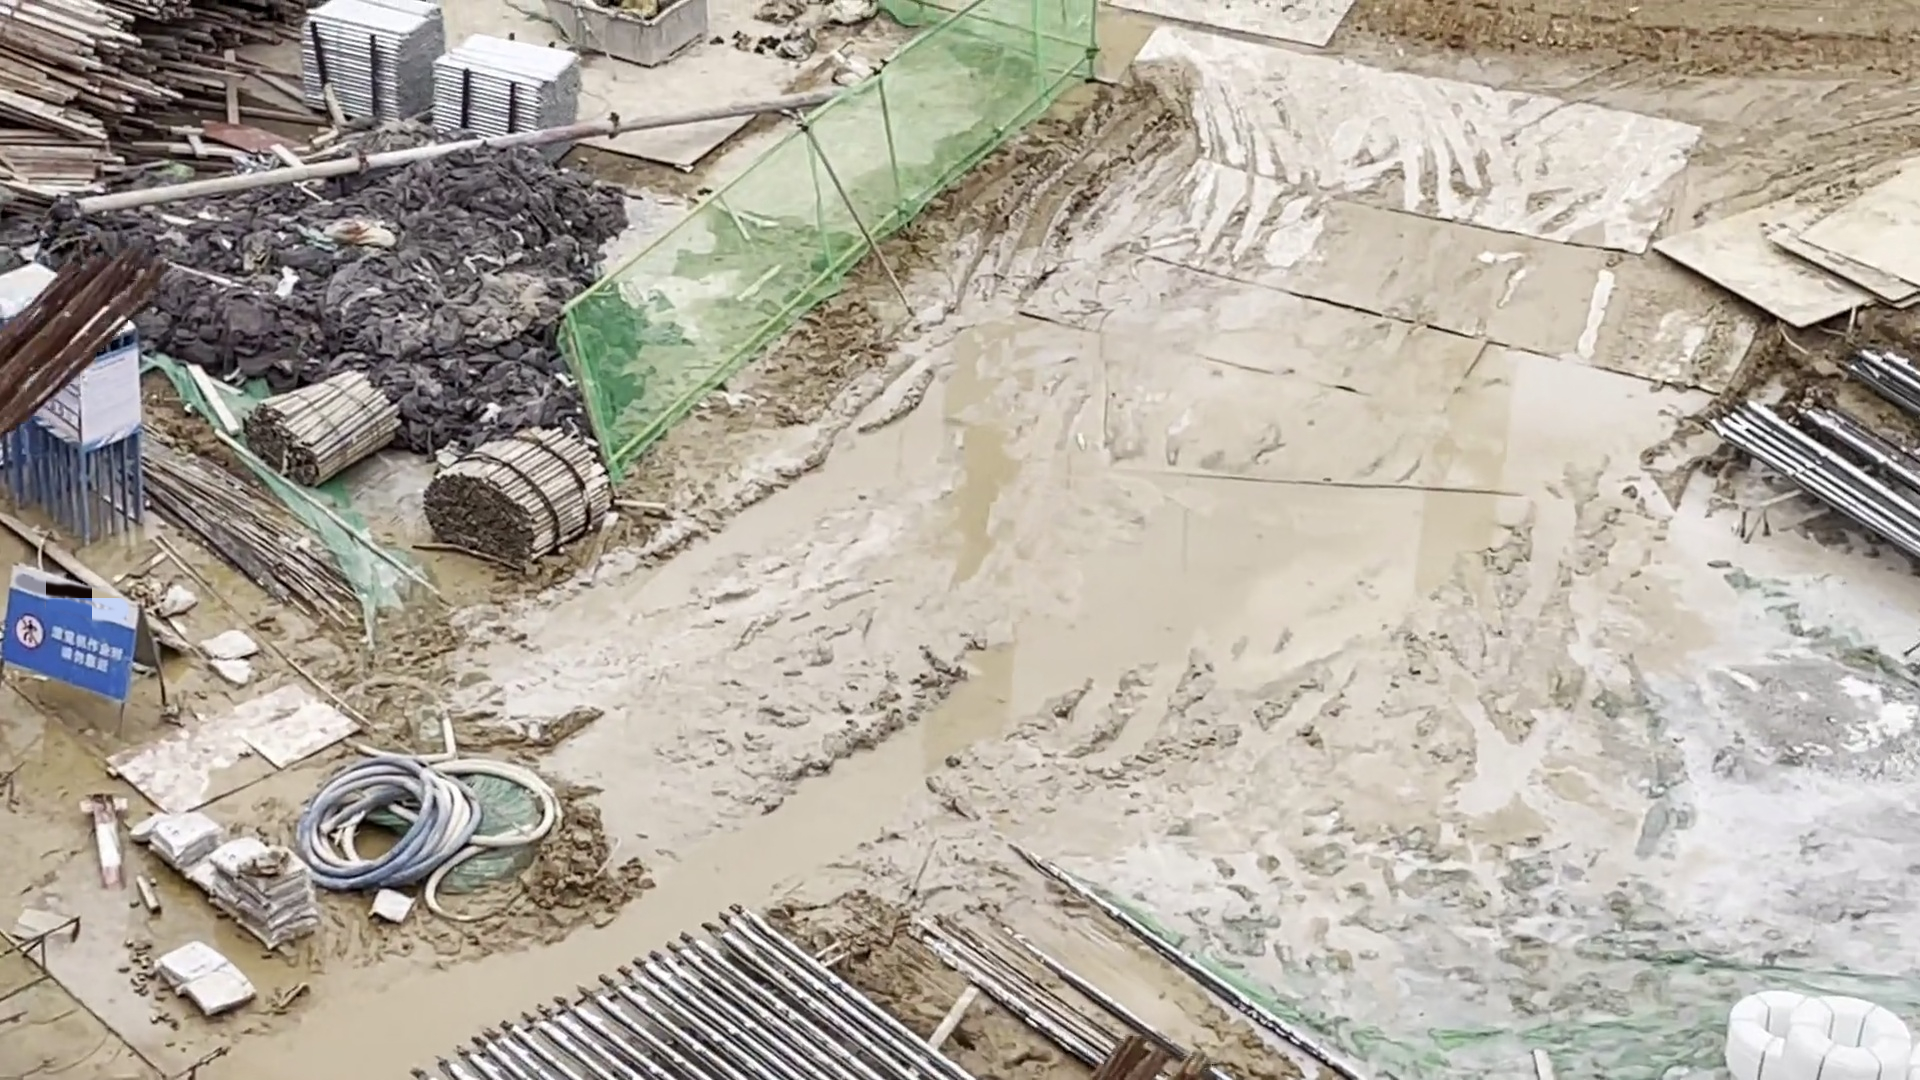hopper: (551, 3, 717, 71)
scaffold: (434, 32, 588, 165), (299, 1, 444, 127)
slogan: (7, 600, 141, 680)
wood: (419, 419, 611, 564), (237, 361, 400, 489)
